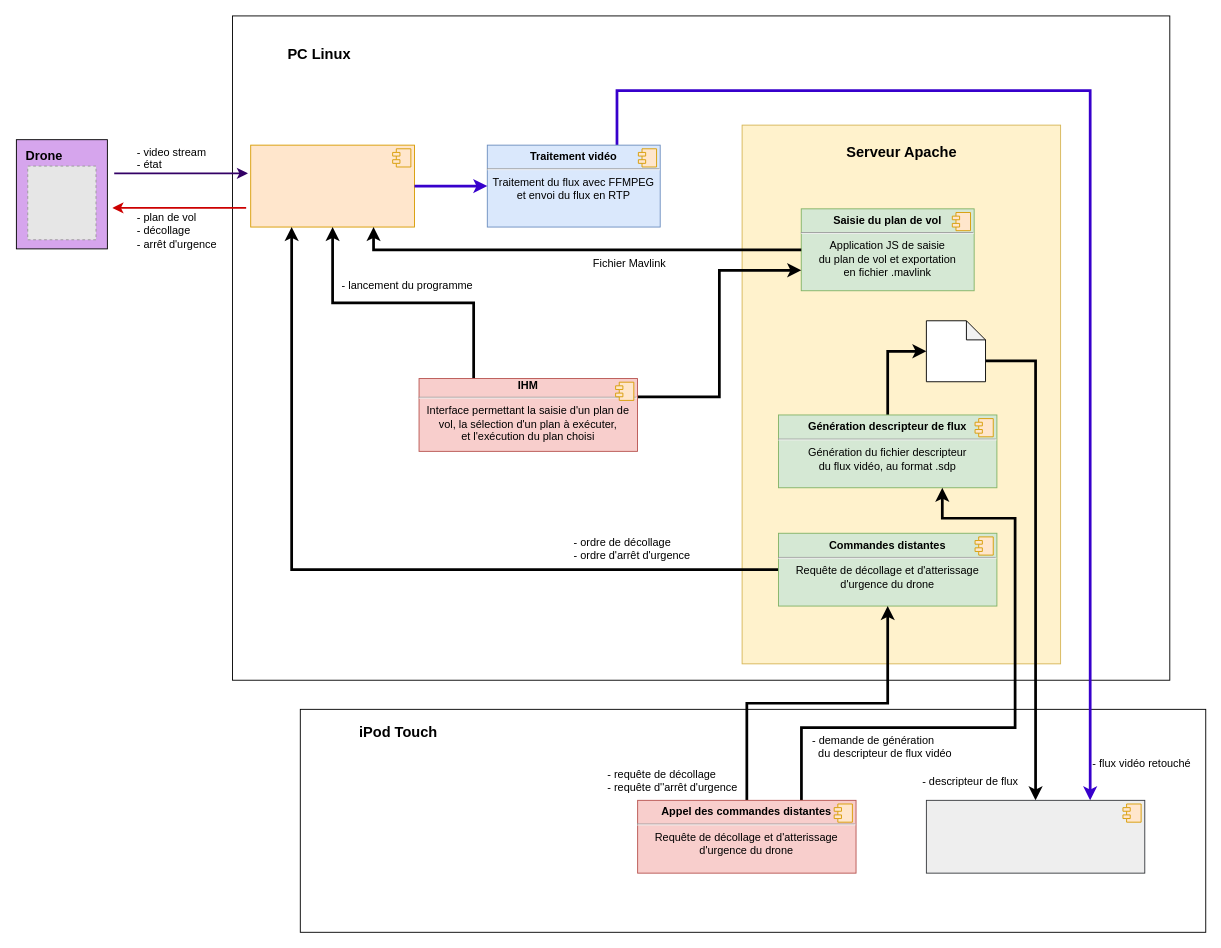
The diagram is 1221 pixels wide and 948 high, and some of its shapes have lost their labels. Grey dashed boxes stand in for pictures. Each missing label, with the centre of its shape:
.sdp: [955,351]
Affichage vidéo Lecture du flux RTP du streaming vidéo: [1035,836]
Contrôleur du drone Code C intéragissant avec le drone grâce au SDK parrot: [332,185]
